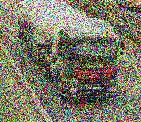truck: (18, 0, 124, 100)
